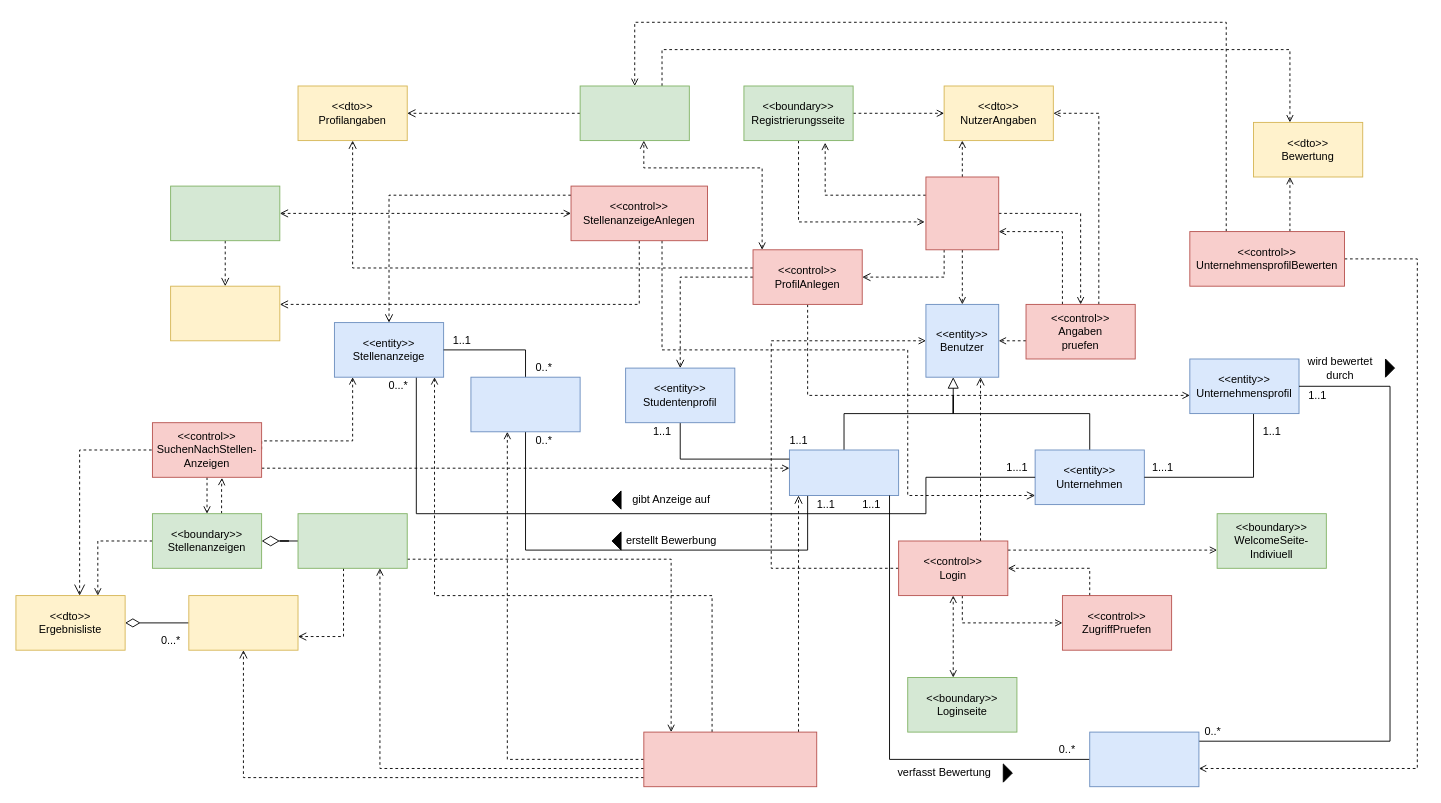
The diagram is 1441 pixels wide and 803 high, and some of its shapes have lost their labels. The box of each missing label's shape, as (x1, y1, x2, y2) in pixels:
<<boundary>> DetailStellenanzeige: (297, 513, 407, 568)
<<boundary>> Profilseite: (579, 85, 689, 141)
<<boundary>> Stellenanzeigen- Erstellen: (170, 185, 280, 241)
<<control>> AufStellenanzeigeBewerben: (643, 731, 817, 787)
<<control>> Registrierung: (925, 176, 999, 250)
<<dto>> Angaben- Stellenanzeige: (170, 285, 280, 341)
<<dto>> Stellenanzeige: (188, 595, 298, 650)
<<entity>> Bewerbung: (470, 376, 580, 432)
<<entity>> Bewertung: (1089, 731, 1199, 787)
<<entity>> Student: (789, 449, 899, 495)
